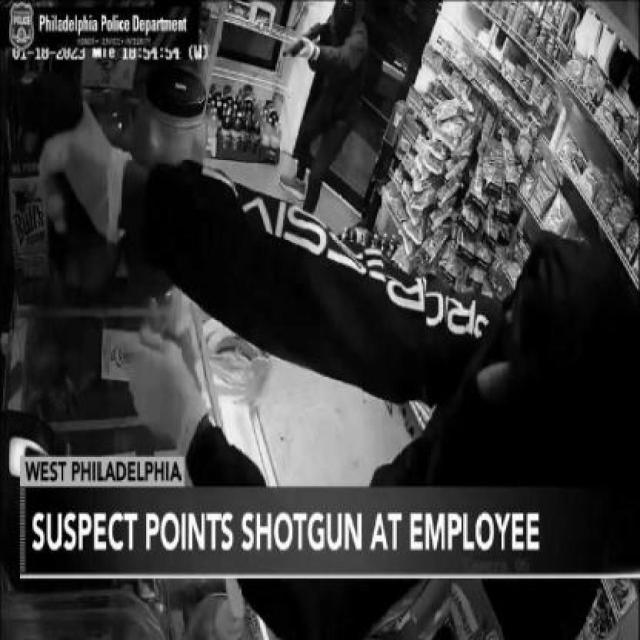weapon: (3, 25, 100, 242), (281, 21, 328, 59)
